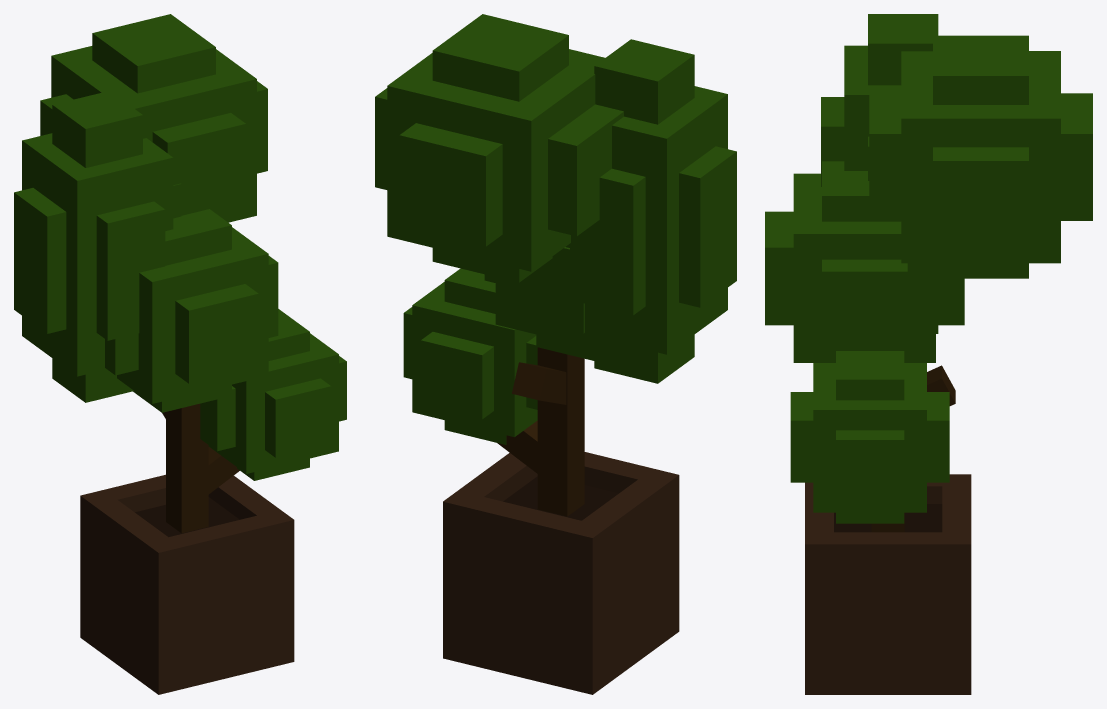
File: tree1.fbx
3 renders of one model, left to right at view 1: azimuth 30°, elevation 25°; view 2: azimuth 150°, elevation 25°; view 3: azimuth 270°, elevation 25°, orthographic. The views are drawn at different scales.
Visible parts, largest first — view 1: Sphere; view 2: Sphere; view 3: Sphere.
Boxes of the visible parts, x1=… form: Sphere: x1=14, y1=14, x2=346, y2=694; Sphere: x1=375, y1=14, x2=736, y2=694; Sphere: x1=765, y1=14, x2=1092, y2=694.
Size of the model in its own units: 0.8033 by 1.55 by 0.7557.
